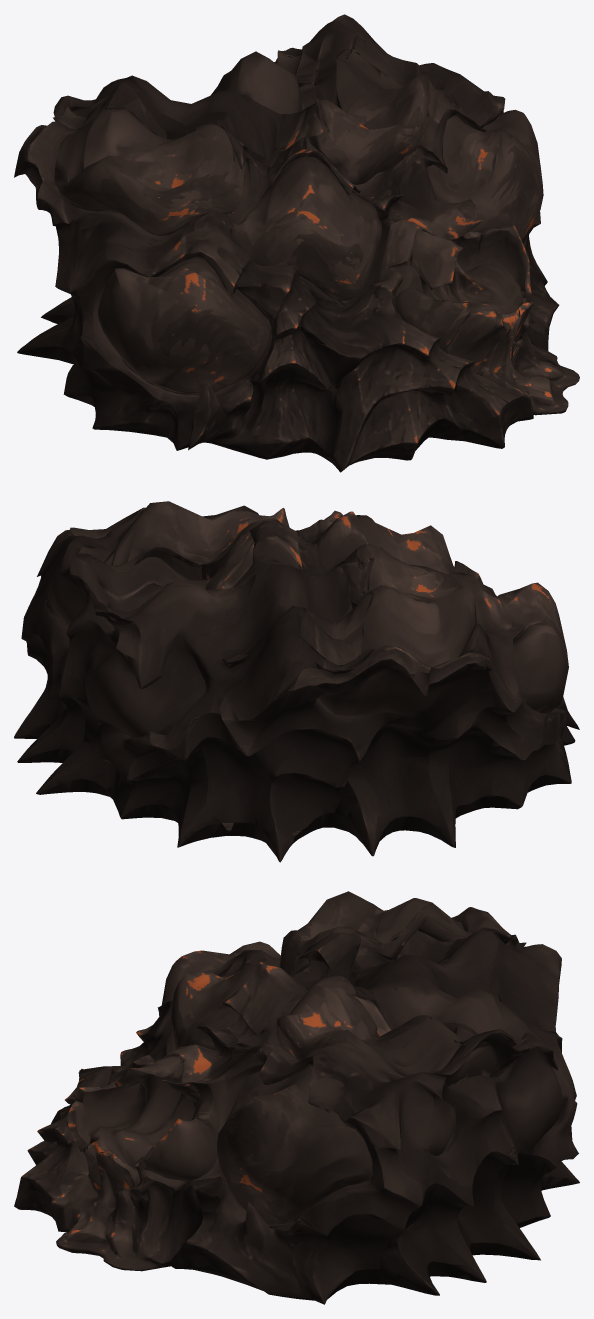
File: SM_HiveEggCluster_Destroyed.fbx
3 renders of one model, top to bottom at view 1: azimuth 30°, elevation 25°; view 2: azimuth 150°, elevation 25°; view 3: azimuth 270°, elevation 25°, orthographic. The views are drawn at different scales.
Visible parts, largest first — view 1: SM_HiveEggCluster_Destroyed; view 2: SM_HiveEggCluster_Destroyed; view 3: SM_HiveEggCluster_Destroyed.
Part boxes in pixels (x1=…): SM_HiveEggCluster_Destroyed: x1=14, y1=14, x2=579, y2=472; SM_HiveEggCluster_Destroyed: x1=14, y1=501, x2=579, y2=862; SM_HiveEggCluster_Destroyed: x1=14, y1=891, x2=579, y2=1304.
Bounding box in the file's own units: 1.85 × 0.8408 × 1.91.
